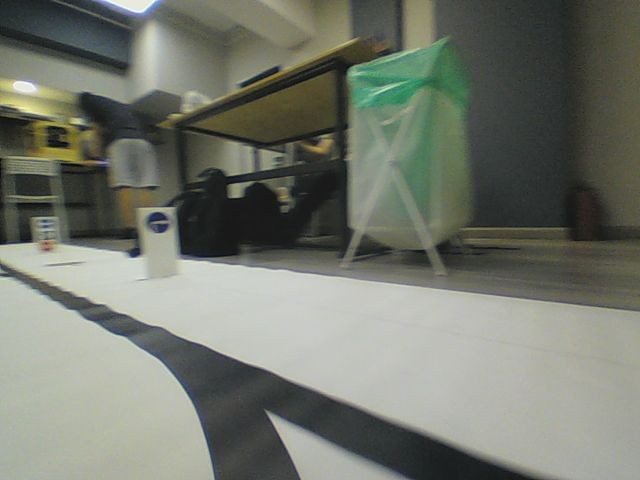Right: (144, 209, 172, 234)
